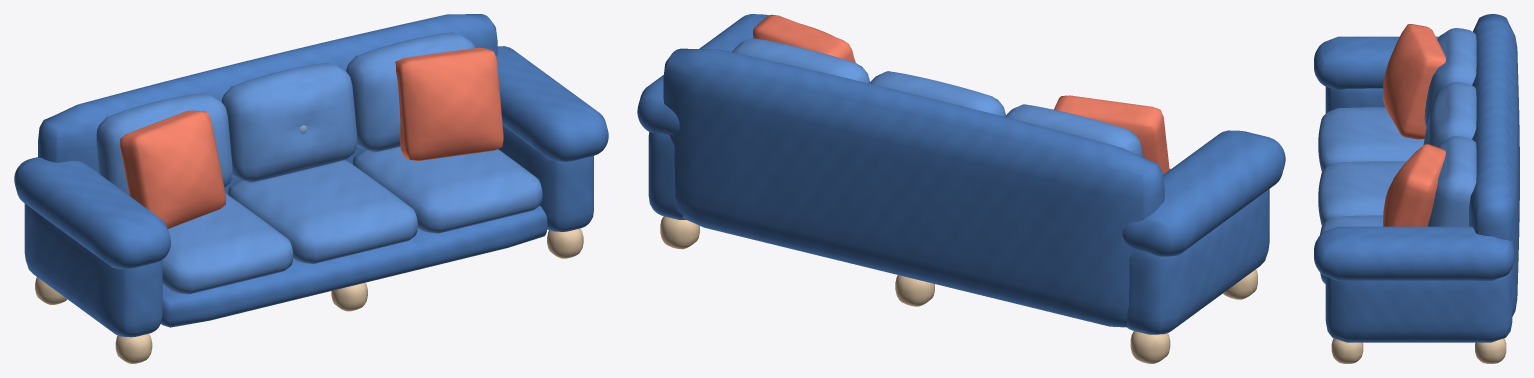
The model's file is sofa.glb.
3 views of the same model, side by side, from view 1: azimuth 30°, elevation 25°; view 2: azimuth 150°, elevation 25°; view 3: azimuth 270°, elevation 25° (orthographic). The views are drawn at different scales.
Parts seen in each view (by area): view 1: SofaCartoon_Frame, SofaCartoon_Cushions, SofaCartoon_Deco, SofaCartoon_Feet; view 2: SofaCartoon_Frame, SofaCartoon_Cushions, SofaCartoon_Deco, SofaCartoon_Feet; view 3: SofaCartoon_Frame, SofaCartoon_Cushions, SofaCartoon_Deco, SofaCartoon_Feet.
Boxes of the visible parts, x1=… form: SofaCartoon_Frame: x1=14, y1=14, x2=608, y2=337; SofaCartoon_Cushions: x1=96, y1=32, x2=542, y2=294; SofaCartoon_Deco: x1=120, y1=47, x2=503, y2=228; SofaCartoon_Feet: x1=35, y1=228, x2=583, y2=363; SofaCartoon_Frame: x1=637, y1=14, x2=1285, y2=334; SofaCartoon_Cushions: x1=732, y1=38, x2=1170, y2=169; SofaCartoon_Deco: x1=753, y1=14, x2=1169, y2=174; SofaCartoon_Feet: x1=660, y1=216, x2=1257, y2=363; SofaCartoon_Frame: x1=1314, y1=14, x2=1519, y2=342; SofaCartoon_Cushions: x1=1318, y1=28, x2=1476, y2=283; SofaCartoon_Deco: x1=1382, y1=24, x2=1445, y2=226; SofaCartoon_Feet: x1=1331, y1=338, x2=1506, y2=363.
Size of what is drawn, in the model's own units: 2.38 by 0.8592 by 0.9489.
5 materials, 3 textured.
